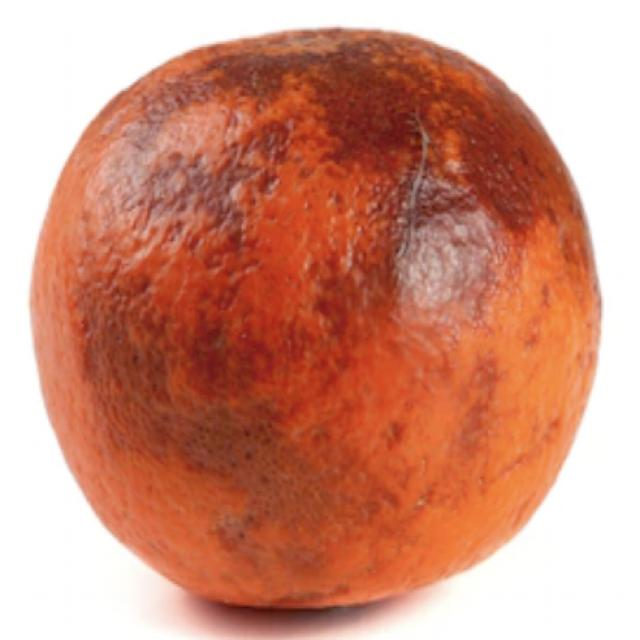rotten-orange: (28, 25, 598, 615)
